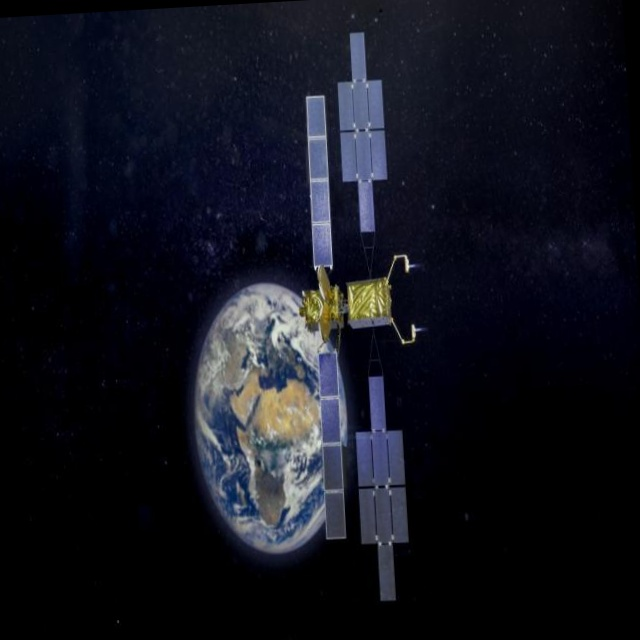satellite: (274, 0, 432, 636)
